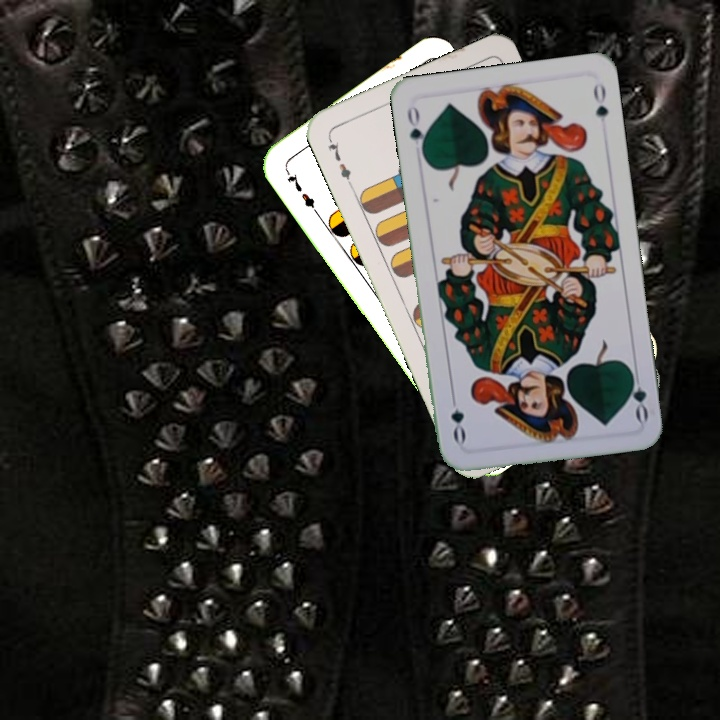E7: (281, 165, 321, 216), (324, 133, 354, 189)
GO: (624, 364, 651, 424), (403, 102, 430, 160)
